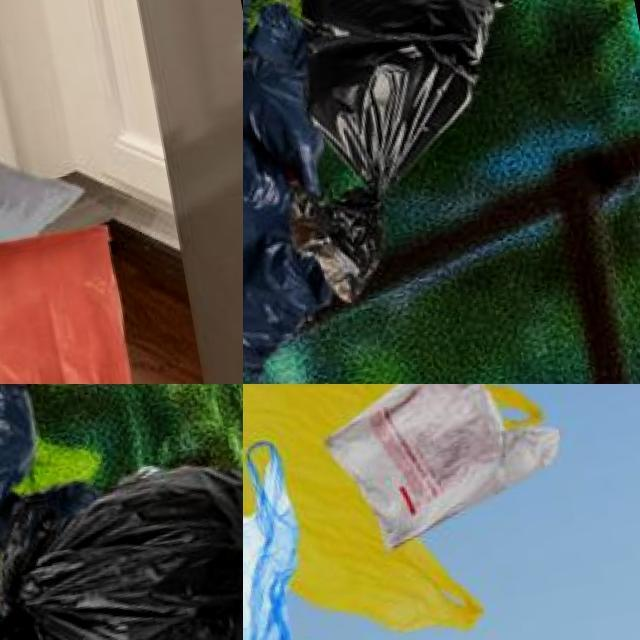waste: (243, 384, 571, 640), (0, 432, 243, 640), (301, 384, 571, 546), (0, 43, 105, 379), (0, 208, 151, 384), (284, 0, 542, 96), (243, 0, 329, 208), (243, 441, 327, 640), (243, 222, 345, 369), (0, 384, 88, 531), (243, 112, 305, 298), (243, 0, 303, 74)
